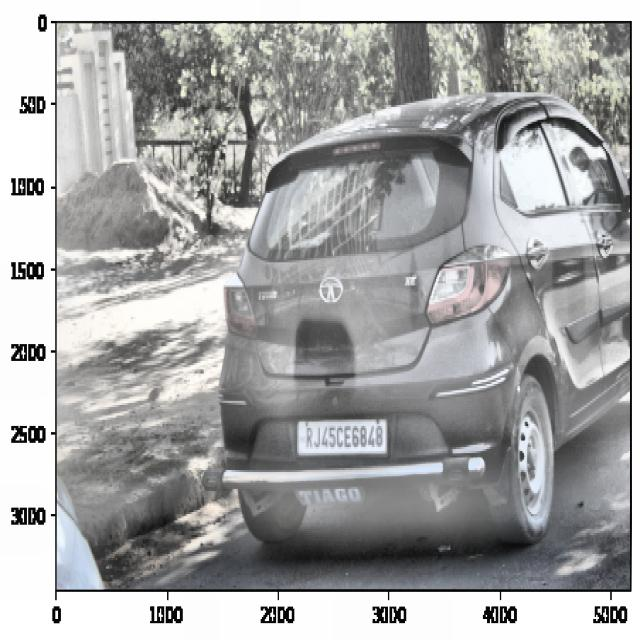license_plate: (300, 420, 390, 460)
